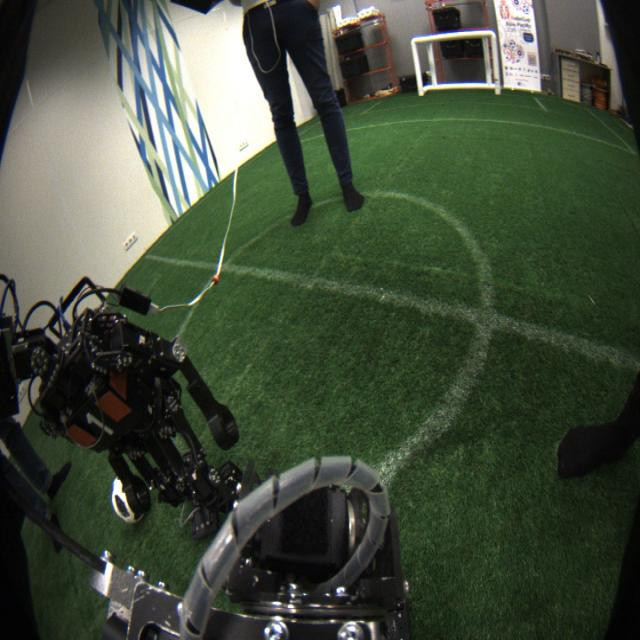ball: (111, 476, 147, 525)
goalpost: (409, 38, 424, 95), (490, 31, 500, 92)
